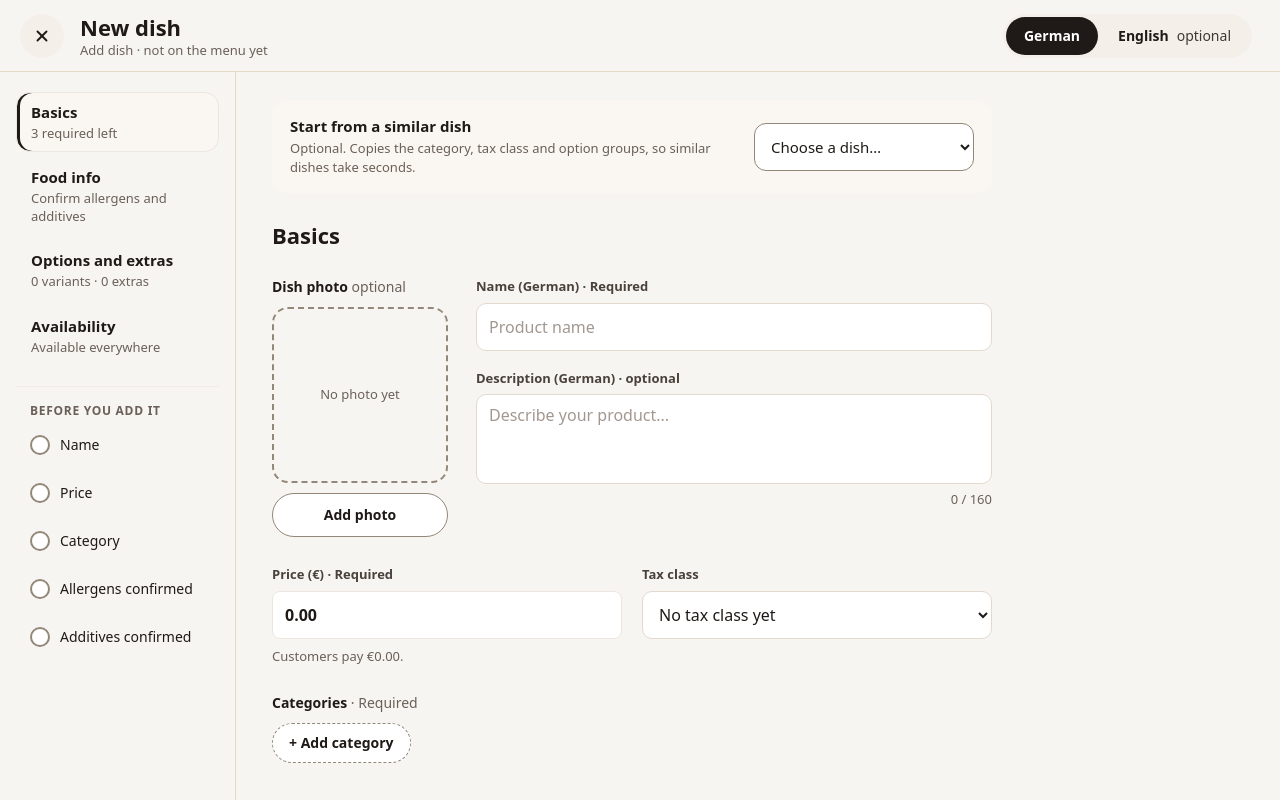
Test: AddDishPanel required list › shows the add-mode Availability copy
Later steps or results of the test are not shown.
Click the button "Availability Available everywhere".
click(118, 336)  # box [16, 306, 219, 366]
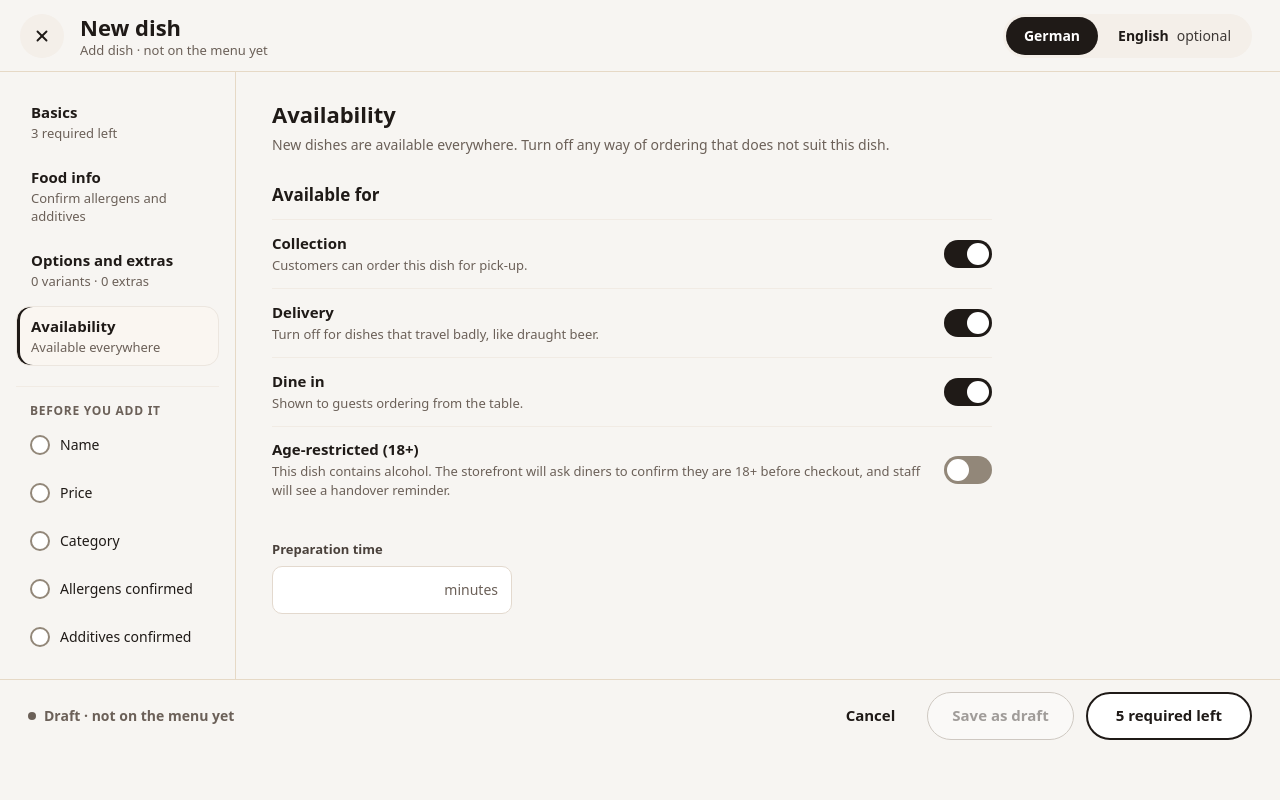
Check: the text "New dishes are available everywhere" is shown, box [272, 135, 889, 154]
